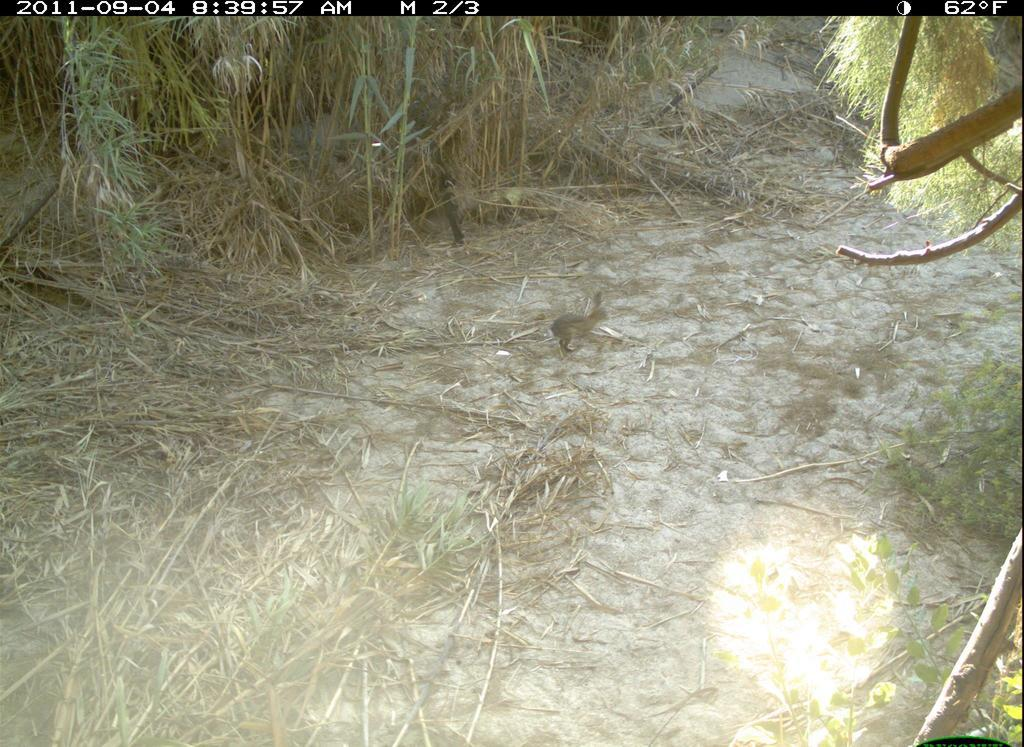rabbit: (548, 292, 617, 364)
